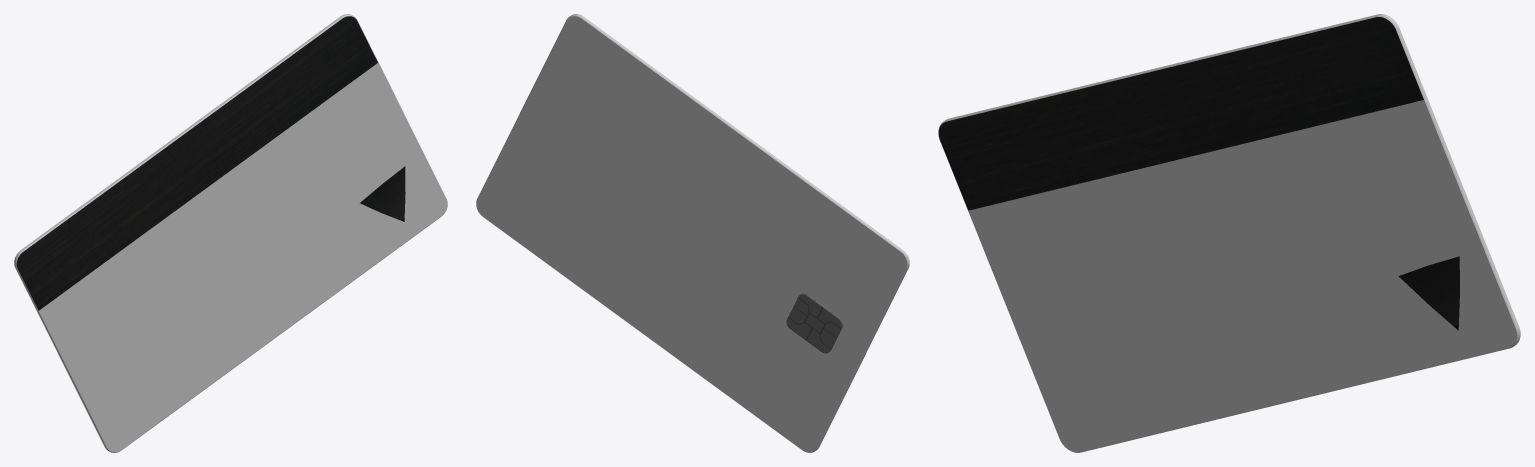
3 views of the same model, side by side, from view 1: azimuth 30°, elevation 25°; view 2: azimuth 150°, elevation 25°; view 3: azimuth 330°, elevation 25° (orthographic). The views are drawn at different scales.
Parts seen in each view (by area): view 1: Rectangle001_2, Rectangle002_3, Rectangle_1, Star_5; view 2: Rectangle003_4, Rectangle_1, CHIP_0; view 3: Rectangle001_2, Rectangle002_3, Rectangle_1, Star_5.
Part boxes in pixels (left/top/right/bottom): Rectangle001_2: left=39, top=63, right=447, bottom=452; Rectangle002_3: left=16, top=16, right=377, bottom=310; Rectangle_1: left=14, top=14, right=447, bottom=452; Star_5: left=360, top=166, right=405, bottom=221; Rectangle003_4: left=476, top=16, right=907, bottom=452; Rectangle_1: left=476, top=14, right=909, bottom=452; CHIP_0: left=786, top=293, right=842, bottom=353; Rectangle001_2: left=968, top=100, right=1517, bottom=452; Rectangle002_3: left=939, top=17, right=1423, bottom=210; Rectangle_1: left=938, top=14, right=1520, bottom=452; Star_5: left=1398, top=256, right=1459, bottom=330.
Size of the model in its own units: 172 by 145 by 2.45.
